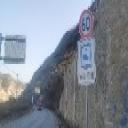speed_limit_60: (78, 8, 93, 38)
